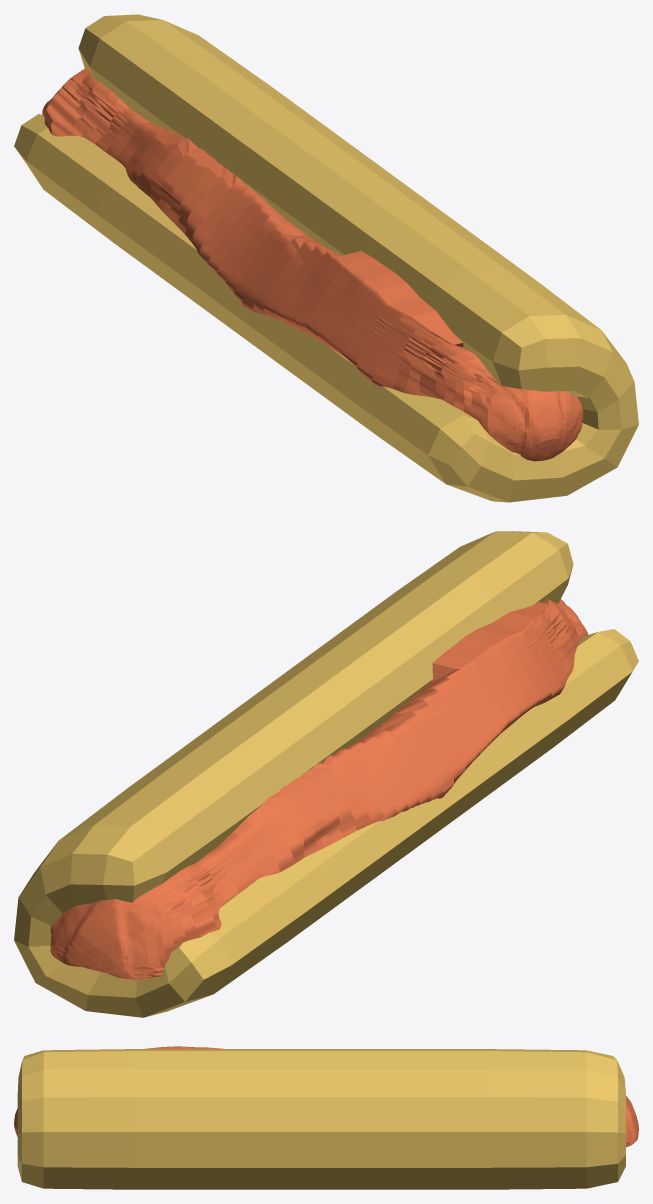
The model's file is hot dog.fbx.
The picture shows the model from 3 angles, top to bottom: view 1: azimuth 30°, elevation 25°; view 2: azimuth 150°, elevation 25°; view 3: azimuth 270°, elevation 25°; orthographic projection. The views are drawn at different scales.
Parts seen in each view (by area): view 1: Cube, Куб; view 2: Cube, Куб; view 3: Cube, Куб.
Part boxes in pixels (x1,y1,x2,y2): Cube: (14, 14, 638, 502); Куб: (42, 68, 583, 461); Cube: (14, 531, 638, 1017); Куб: (50, 599, 588, 979); Cube: (17, 1049, 625, 1189); Куб: (14, 1046, 638, 1147).
Size of the model in its own units: 520 by 448 by 2022.
